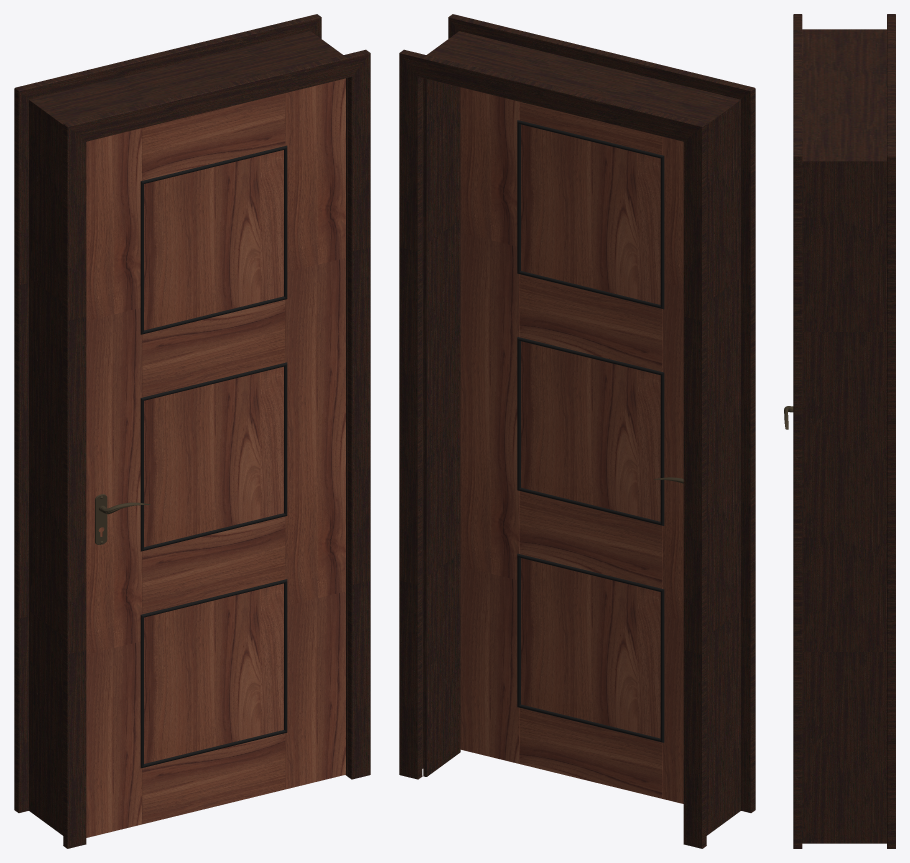
File: men 22.FBX
The picture shows the model from 3 angles, left to right: view 1: azimuth 30°, elevation 25°; view 2: azimuth 150°, elevation 25°; view 3: azimuth 270°, elevation 25°; orthographic projection. The views are drawn at different scales.
Parts seen in each view (by area): view 1: Group003, Group002, Rectangle179, Rectangle174, Rectangle177, Rectangle176, Line003, Rectangle182, Rectangle180, Rectangle178, Rectangle181; view 2: Group003, Group002, Rectangle174, Rectangle177, Rectangle176, Rectangle179, Line003, Rectangle182, Rectangle180, Rectangle178; view 3: Group003, Rectangle182, Line003.
Boxes of the visible parts, <box> form: Group003: <box>14,18,370,847</box>; Group002: <box>142,78,345,789</box>; Rectangle179: <box>86,128,141,837</box>; Rectangle174: <box>144,150,283,330</box>; Rectangle177: <box>144,583,283,763</box>; Rectangle176: <box>144,366,283,547</box>; Line003: <box>14,14,370,848</box>; Rectangle182: <box>29,31,343,124</box>; Rectangle180: <box>142,733,285,824</box>; Rectangle178: <box>140,145,287,768</box>; Rectangle181: <box>95,494,150,544</box>; Group003: <box>399,18,755,847</box>; Group002: <box>460,87,662,763</box>; Rectangle174: <box>521,124,660,304</box>; Rectangle177: <box>521,558,660,738</box>; Rectangle176: <box>521,341,660,521</box>; Rectangle179: <box>662,136,683,803</box>; Line003: <box>399,14,755,848</box>; Rectangle182: <box>426,31,740,124</box>; Rectangle180: <box>519,707,662,798</box>; Rectangle178: <box>517,120,664,742</box>; Group003: <box>793,156,895,848</box>; Rectangle182: <box>802,29,886,161</box>; Line003: <box>793,14,895,848</box>.
Bounding box in the file's own units: 952 × 2166 × 317.
Materials: 5 (2 with a texture image).
